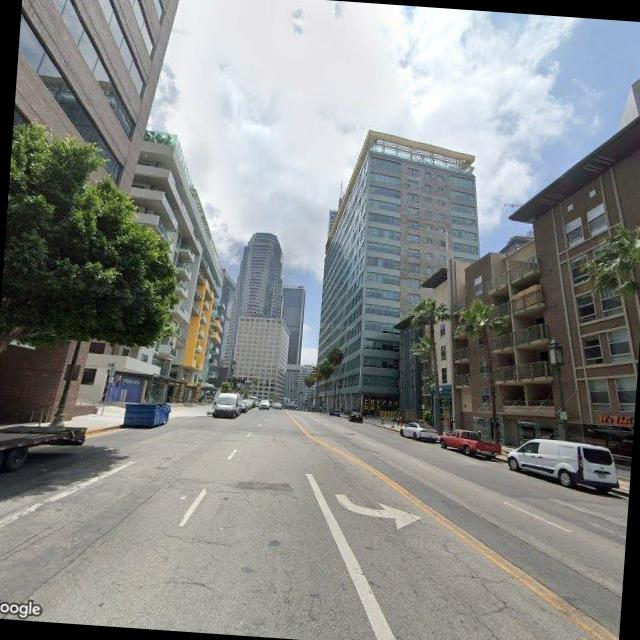crack: (429, 530, 526, 614)
